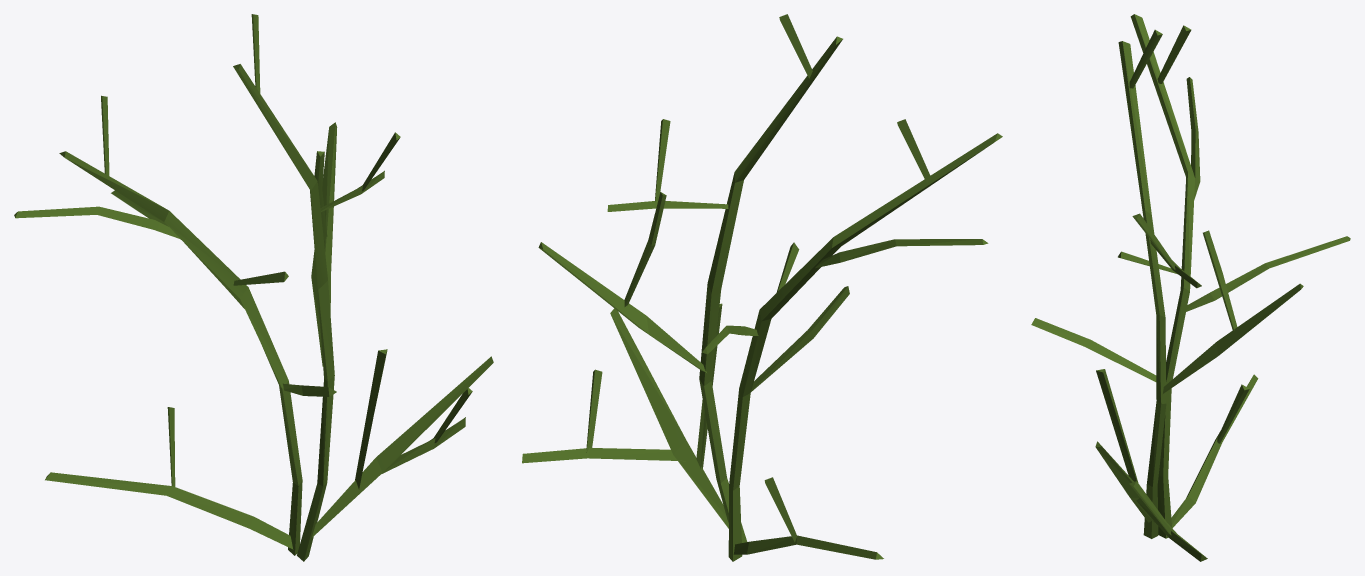
The model's file is Desert_plant_011.glb.
3 renders of one model, left to right at view 1: azimuth 30°, elevation 25°; view 2: azimuth 150°, elevation 25°; view 3: azimuth 270°, elevation 25°, orthographic. The views are drawn at different scales.
Visible parts, largest first — view 1: Desert_plant_011; view 2: Desert_plant_011; view 3: Desert_plant_011.
Part boxes in pixels (bbox=[...]): Desert_plant_011: bbox=[14, 14, 493, 561]; Desert_plant_011: bbox=[522, 14, 1002, 561]; Desert_plant_011: bbox=[1031, 14, 1350, 561].
Size of the model in its own units: 1.36 by 1.57 by 0.935.
1 material, 1 textured.
